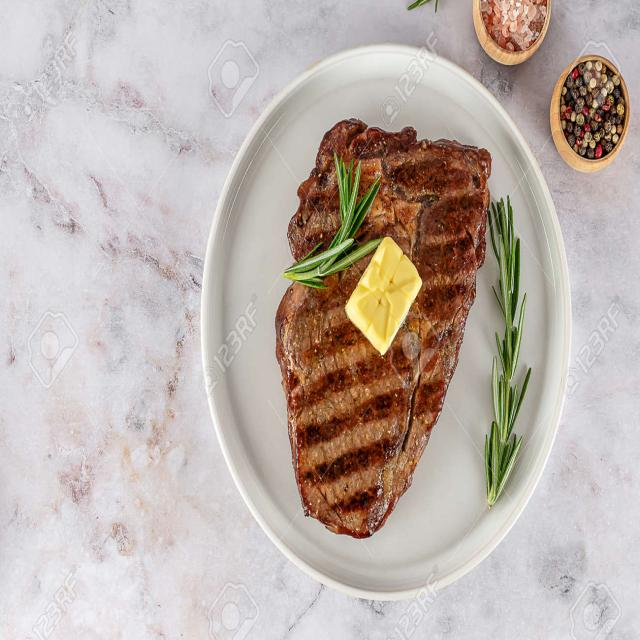carne de res: (271, 102, 491, 541)
